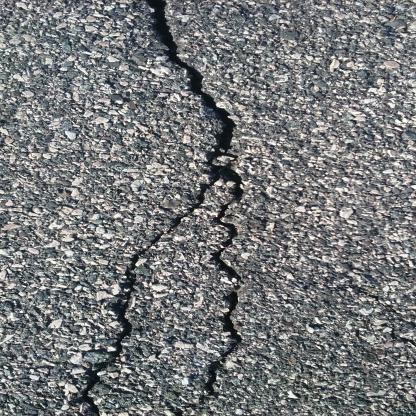Cracks: (66, 0, 257, 415)
